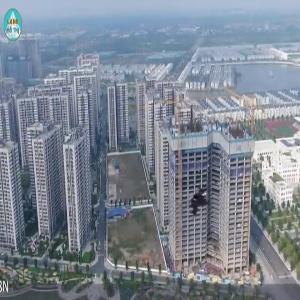drone: (176, 179, 222, 225)
